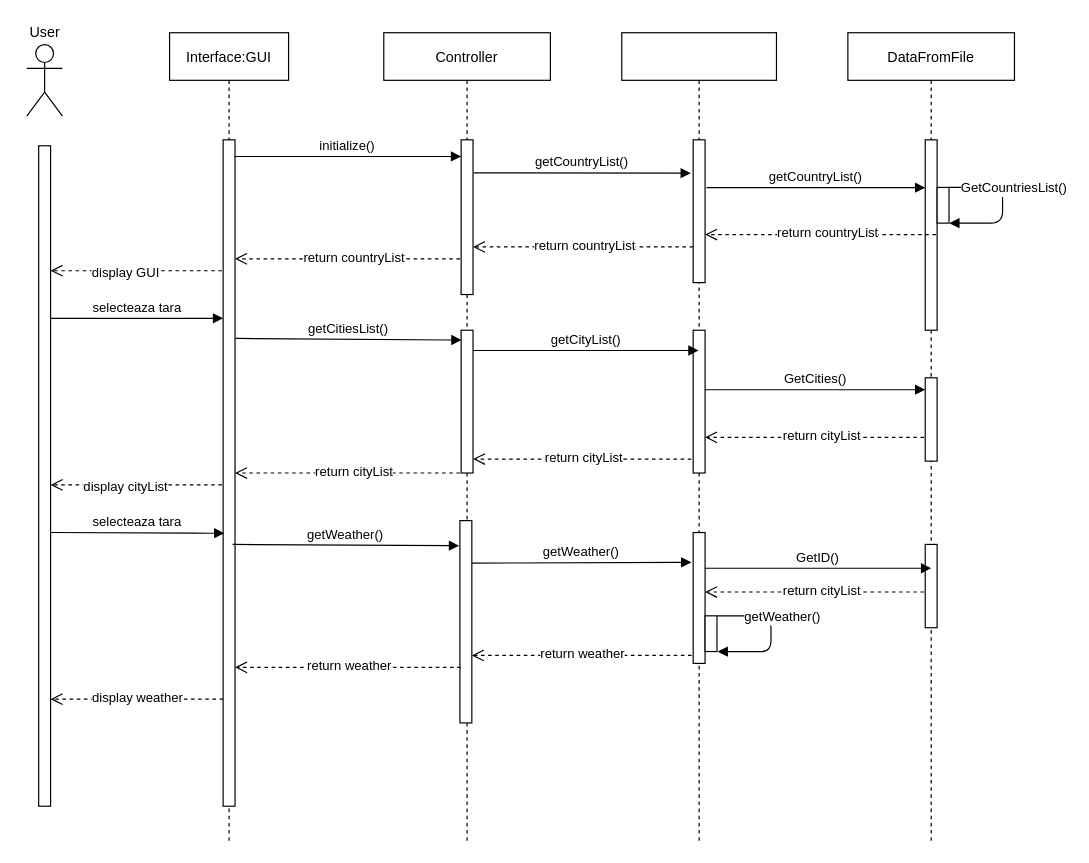
Some shapes in this 1089 by 863 pixel diagram are drawn without their labels. Here are the shapes that lost their labels. From the top down, the centre of each, then its label:
At (x=44, y=79): "Actor".
At (x=698, y=437): "Weather".
